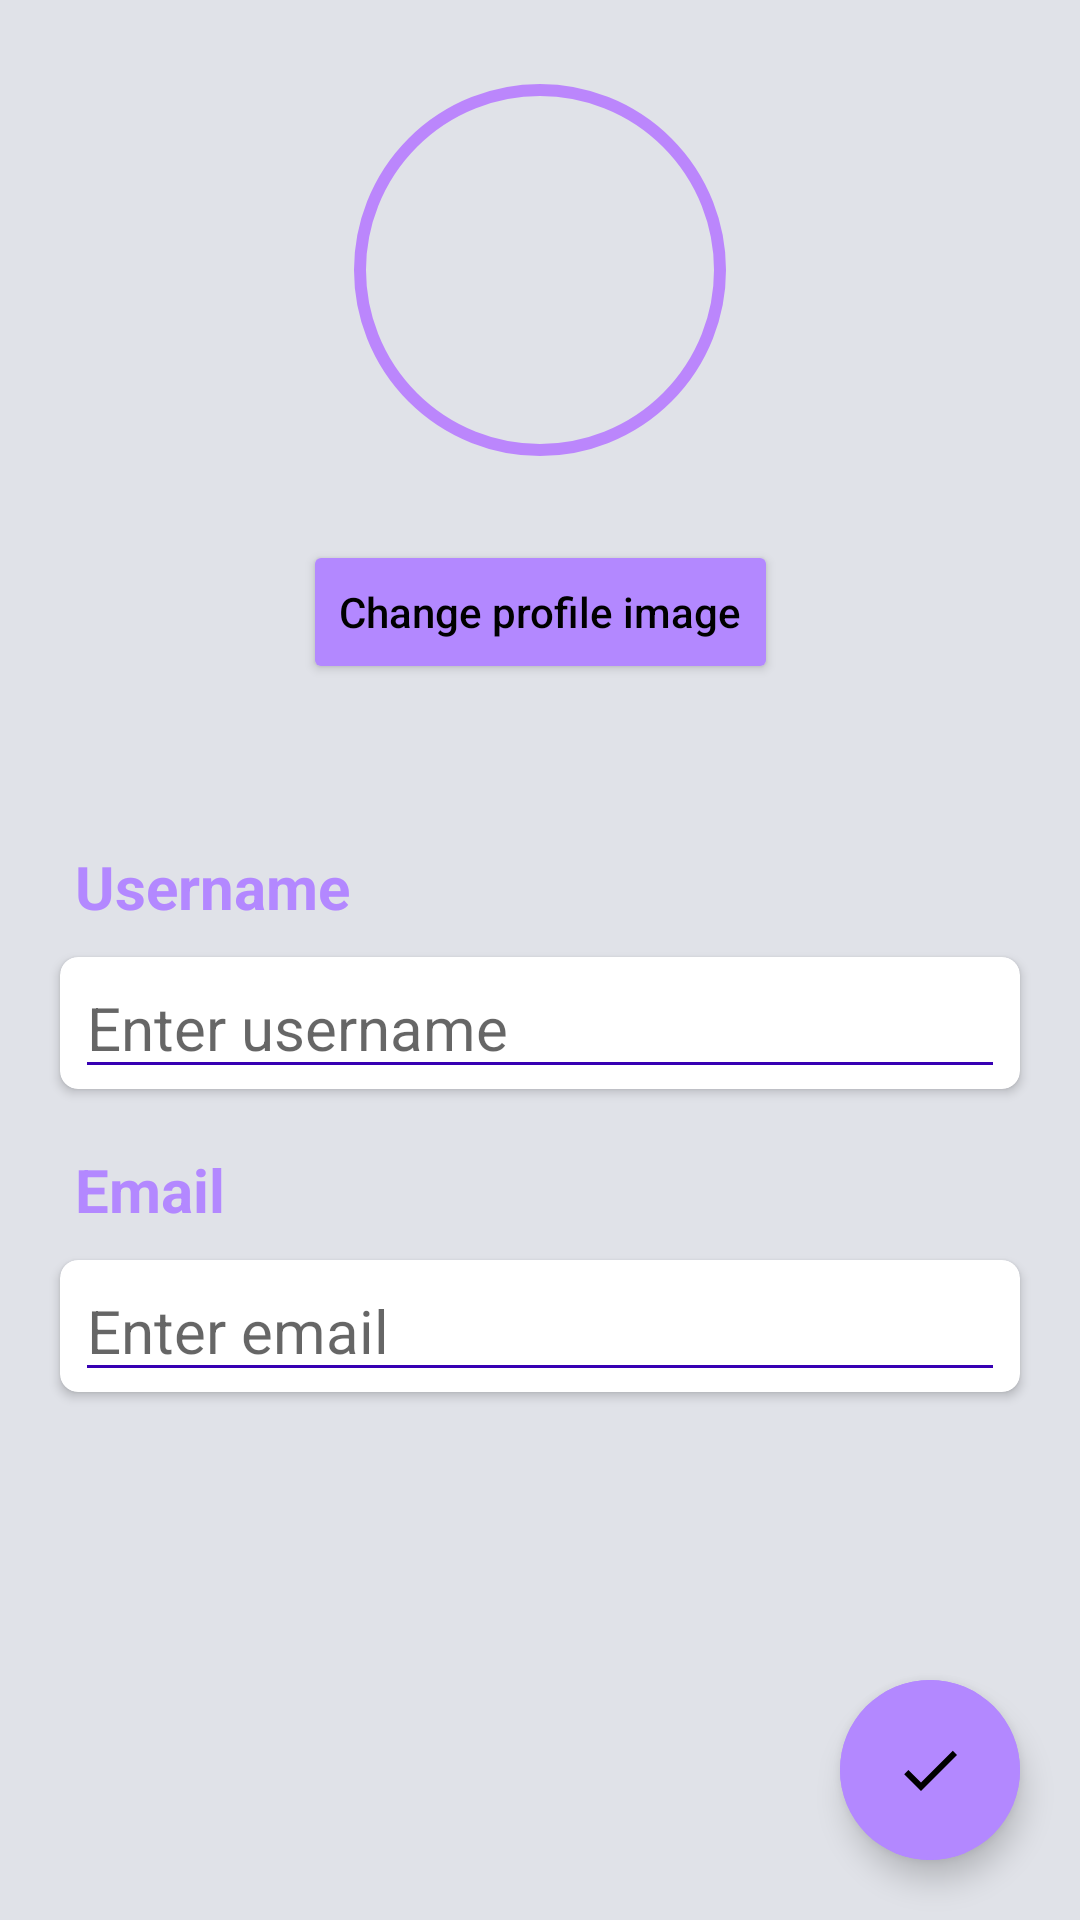

Icons on this 1080 x 1920 Android screen, each with its box as detection(x1, y1, x2, y2):
Successfully saved!: detection(840, 1680, 1020, 1860)
